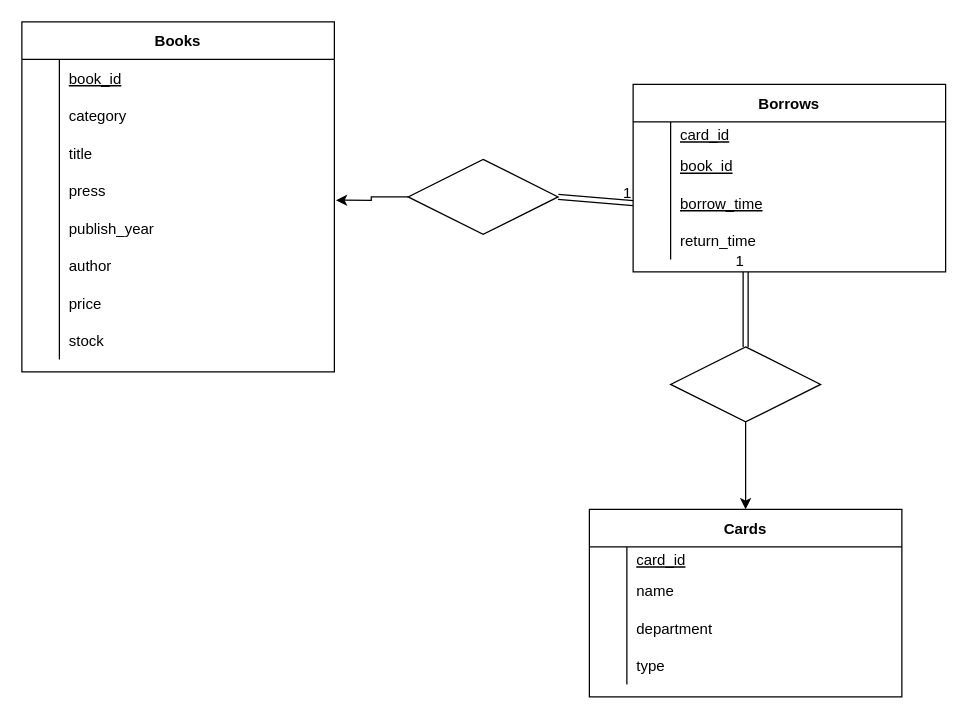
This 968x719 diagram has some shape labels left out. The shapes that lost their labels are listed below. From the top down, each one's centre as x and y in pixels, then its label:
point (482, 196): borrow_book
point (745, 384): borrow_card
